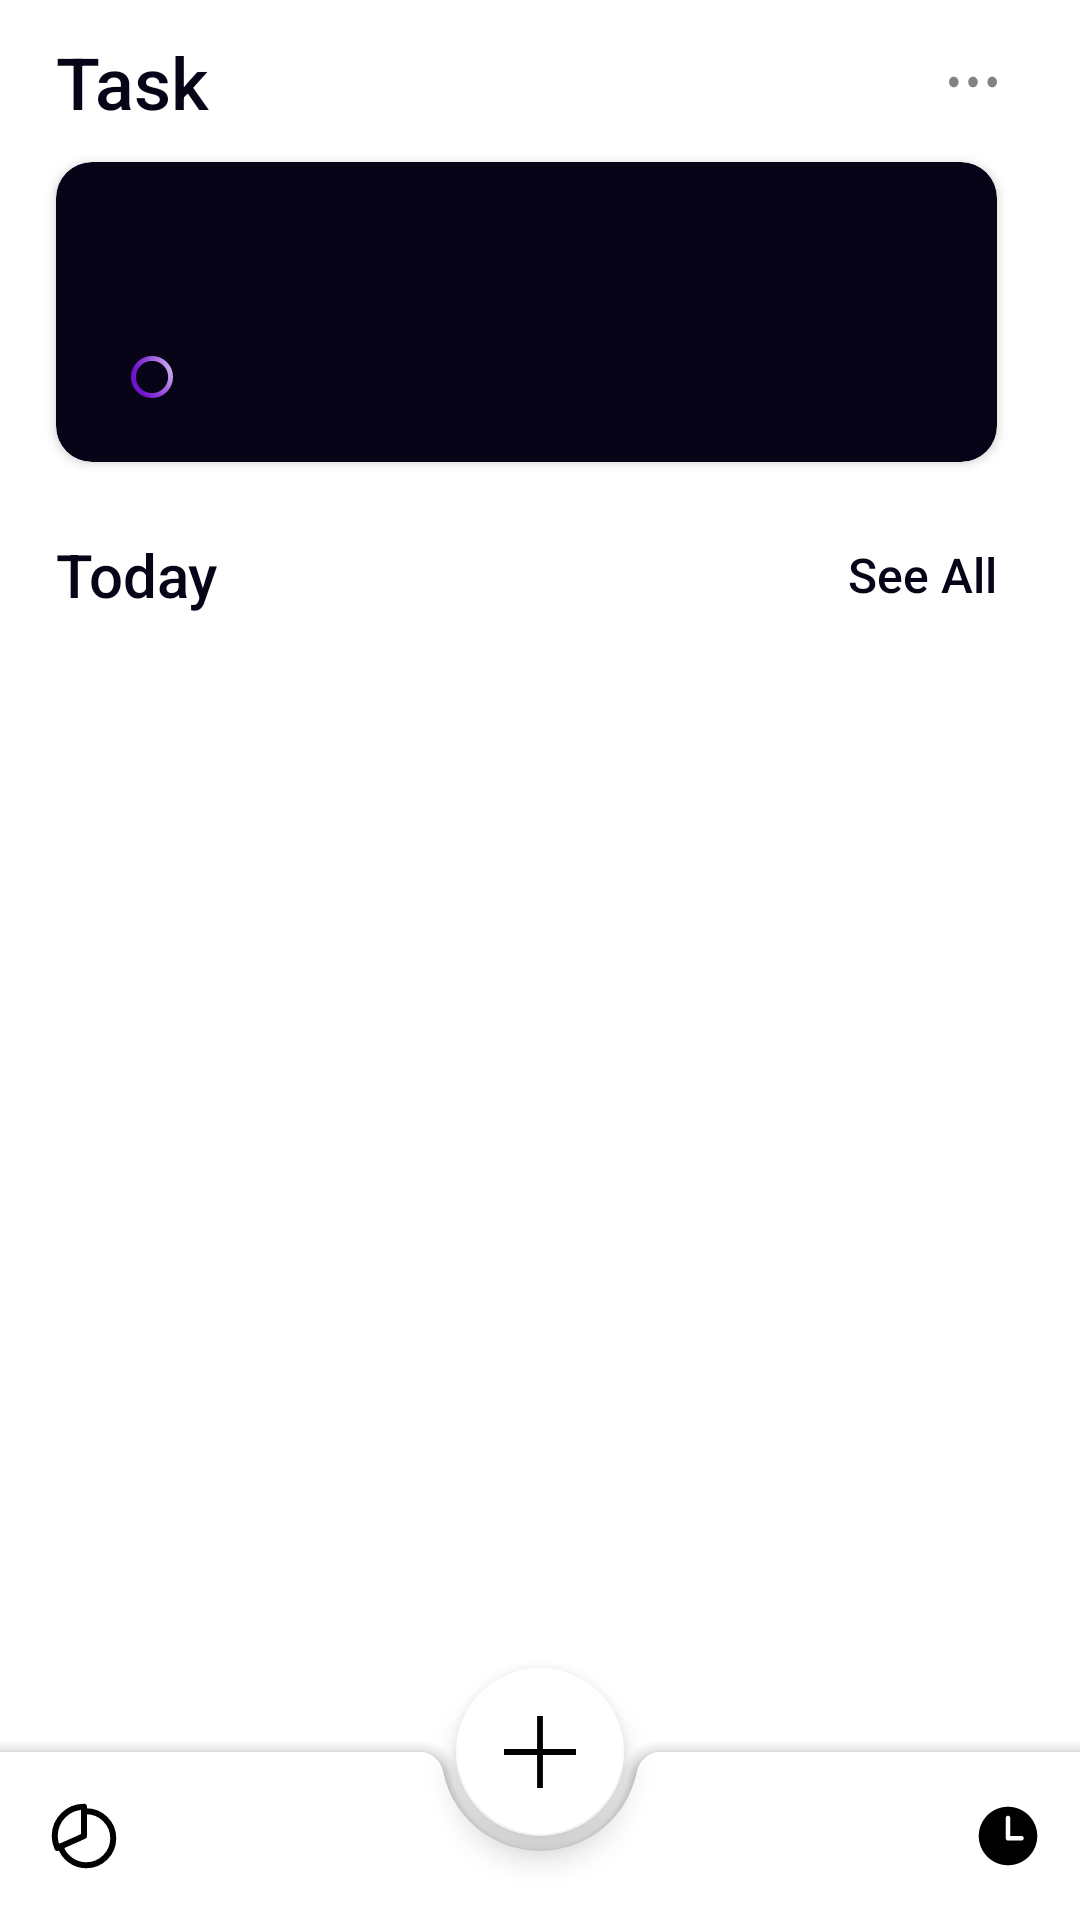

Icon bounding boxes for this 1080px x 1920px phone screenshot, format box=[x1, y1, x2, y2]:
add: box=[456, 1716, 624, 1836]
more: box=[949, 76, 997, 88]
